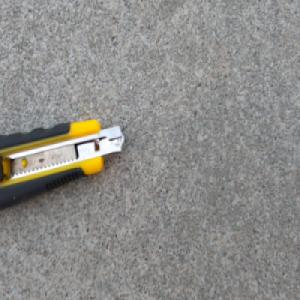Cutter: (0, 117, 125, 213)
